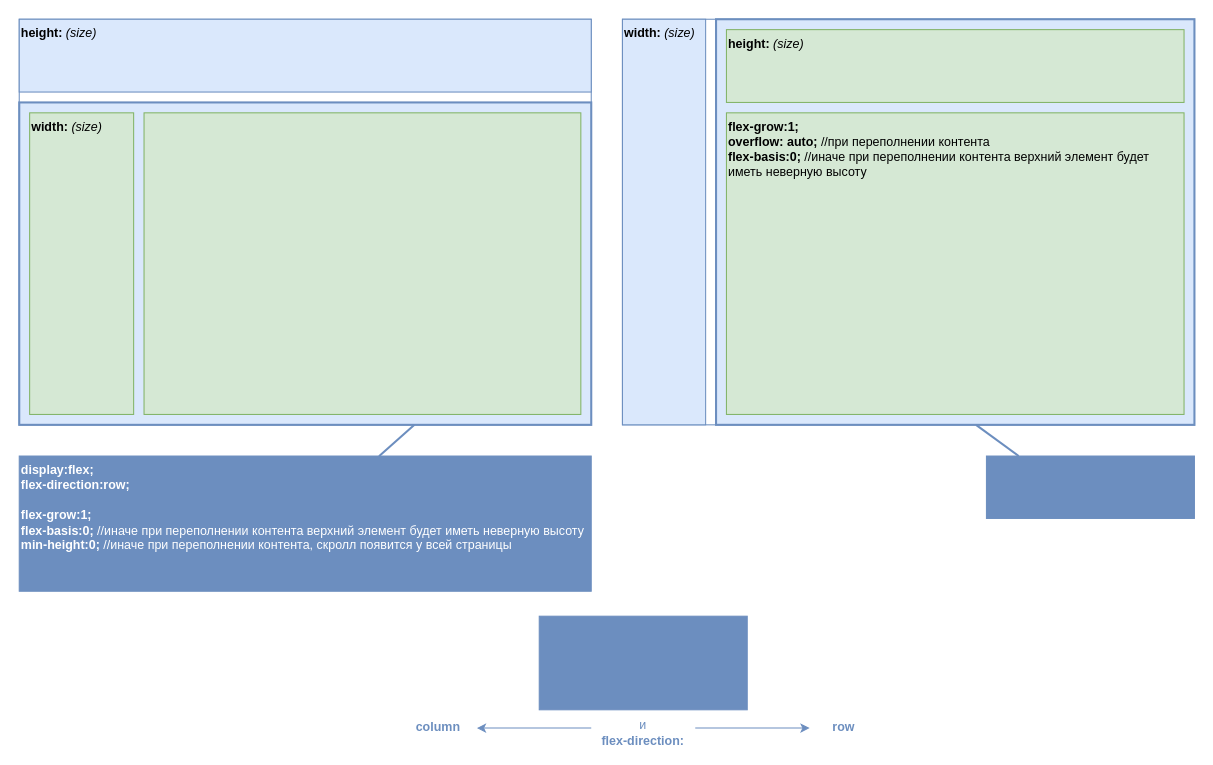
Some shapes in this 1213 by 765 pixel diagram are drawn without their labels. Here are the shapes that lost their labels. From the top down, the centre of each, then its label:
the point at 362,263: overflow: auto; //при переполнении контента
the point at 1089,486: display:flex; flex-direction:column;
the point at 642,662: Для всей хост-страницы: width:100%; height:100%; display:flex;
